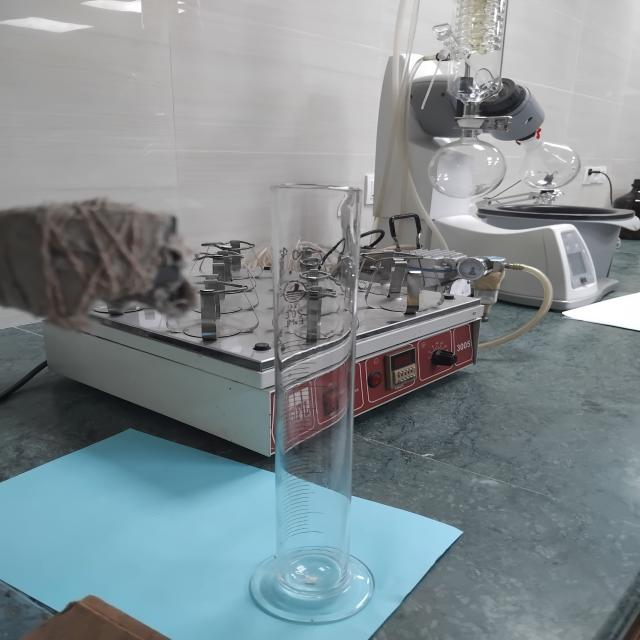Measuring_Cylinder: (202, 125, 422, 638)
